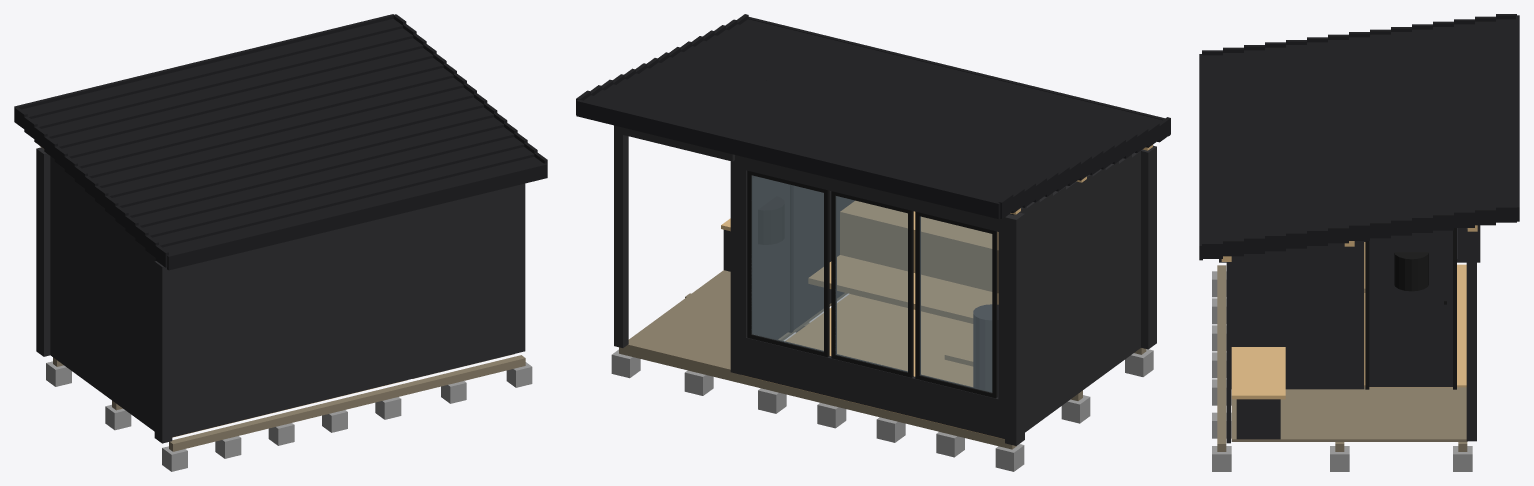
File: hannu_bastu.obj
3 views of the same model, side by side, from view 1: azimuth 30°, elevation 25°; view 2: azimuth 150°, elevation 25°; view 3: azimuth 270°, elevation 25° (orthographic). The views are drawn at different scales.
Visible parts, largest first — view 1: RoofCovering, Walls_Back, Walls_Left, RoofFascia, Knots, Joists, Foundation, RoofBargeboard, Walls_Divider; view 2: RoofCovering, GlassPanes, Walls_Left, Walls_Front, RoofFascia, SaunaFloor, WinFrames, Knots, TerraceDeck, Foundation, LaveSkirt, LaveLower (+9 smaller); view 3: RoofCovering, Walls_Divider, DoorLeaf, TerraceDeck, RoofBargeboard, TerraceBench, Foundation, TerracePost, Joists, TerraceBenchLeg, RoofFascia, SaunaFloor (+3 smaller).
Boxes of the visible parts, box(x1,y1,x2,y2) form: RoofCovering: box(22, 18, 543, 254); Walls_Back: box(172, 183, 525, 437); Walls_Left: box(50, 156, 155, 431); RoofFascia: box(14, 14, 547, 270); Knots: box(36, 147, 172, 443); Joists: box(53, 355, 525, 451); Foundation: box(46, 361, 532, 471); RoofBargeboard: box(14, 14, 547, 267); Walls_Divider: box(414, 210, 418, 377); RoofCovering: box(584, 19, 1162, 201); GlassPanes: box(751, 175, 992, 392); Walls_Left: box(1019, 149, 1142, 432); Walls_Front: box(730, 155, 1014, 438); RoofFascia: box(576, 17, 1170, 218); SaunaFloor: box(742, 294, 1004, 439); WinFrames: box(747, 170, 997, 398); Knots: box(1005, 145, 1156, 445); TerraceDeck: box(625, 270, 847, 374); Foundation: box(611, 349, 1153, 471); LaveSkirt: box(840, 218, 998, 292); LaveLower: box(808, 255, 998, 323); RoofCovering: box(1203, 19, 1515, 242); Walls_Divider: box(1231, 241, 1364, 389); DoorLeaf: box(1369, 230, 1452, 386); TerraceDeck: box(1231, 387, 1467, 441); RoofBargeboard: box(1202, 14, 1516, 258); TerraceBench: box(1231, 347, 1285, 399); Foundation: box(1212, 271, 1472, 471); TerracePost: box(1466, 228, 1476, 441); Joists: box(1217, 265, 1467, 451); TerraceBenchLeg: box(1236, 399, 1280, 439); RoofFascia: box(1199, 15, 1519, 260); SaunaFloor: box(1364, 264, 1466, 387).
Size of the model in its own units: 4.66 by 3.03 by 3.26.
